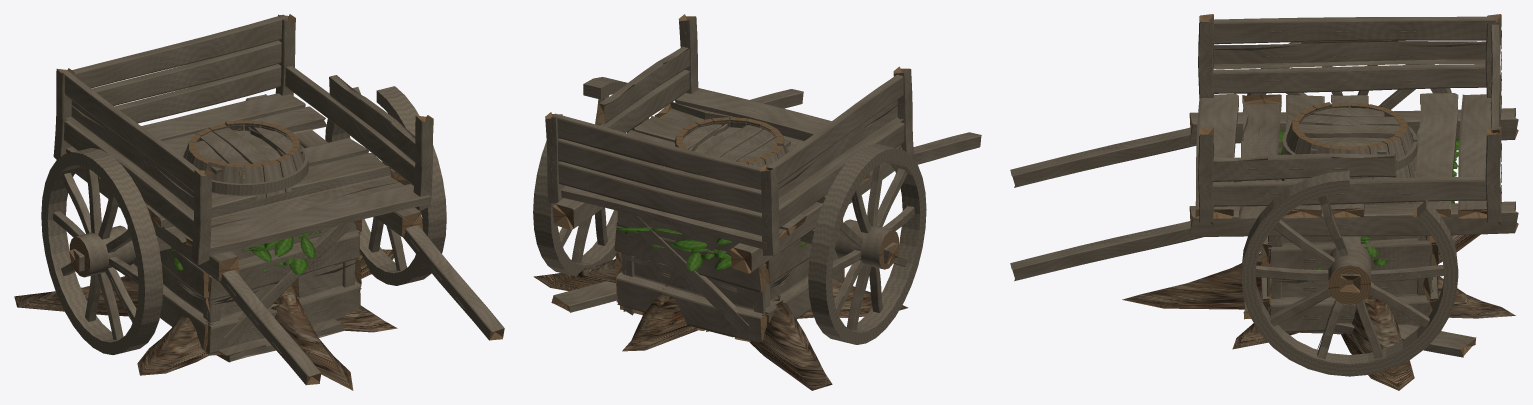
Rendered from meadow_props_v003.glb.
The picture shows the model from 3 angles, left to right: view 1: azimuth 30°, elevation 25°; view 2: azimuth 150°, elevation 25°; view 3: azimuth 270°, elevation 25°; orthographic projection. The views are drawn at different scales.
Parts seen in each view (by area): view 1: cart_broken, crate_intact, stump_roots, crate_broken, barrel_intact, barrel_broken, shrub_low; view 2: cart_broken, crate_broken, stump_roots, crate_intact, barrel_intact, shrub_low, barrel_broken; view 3: cart_broken, stump_roots, crate_broken, crate_intact, barrel_intact, barrel_broken, shrub_low.
Boxes of the visible parts, x1,y1,x2,y2 form: cart_broken: [41, 14, 504, 385]; crate_intact: [127, 219, 361, 355]; stump_roots: [14, 249, 397, 390]; crate_broken: [127, 223, 361, 362]; barrel_intact: [184, 123, 308, 195]; barrel_broken: [180, 120, 308, 199]; shrub_low: [166, 230, 321, 275]; cart_broken: [533, 14, 981, 344]; crate_broken: [614, 213, 844, 340]; stump_roots: [533, 259, 908, 390]; crate_intact: [614, 211, 844, 342]; barrel_intact: [670, 121, 790, 190]; shrub_low: [617, 223, 806, 271]; barrel_broken: [671, 117, 791, 186]; cart_broken: [1010, 14, 1518, 376]; stump_roots: [1122, 234, 1515, 390]; crate_broken: [1243, 142, 1438, 331]; crate_intact: [1260, 145, 1438, 334]; barrel_intact: [1282, 102, 1417, 204]; barrel_broken: [1278, 102, 1417, 204]; shrub_low: [1233, 130, 1458, 281].
Bounding box in the file's own units: 2.02 × 1.2 × 2.44.
Materials: 1 (1 with a texture image).
